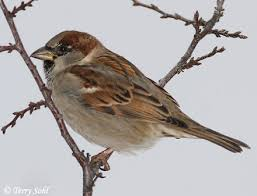hsparrow: (29, 25, 252, 179)
